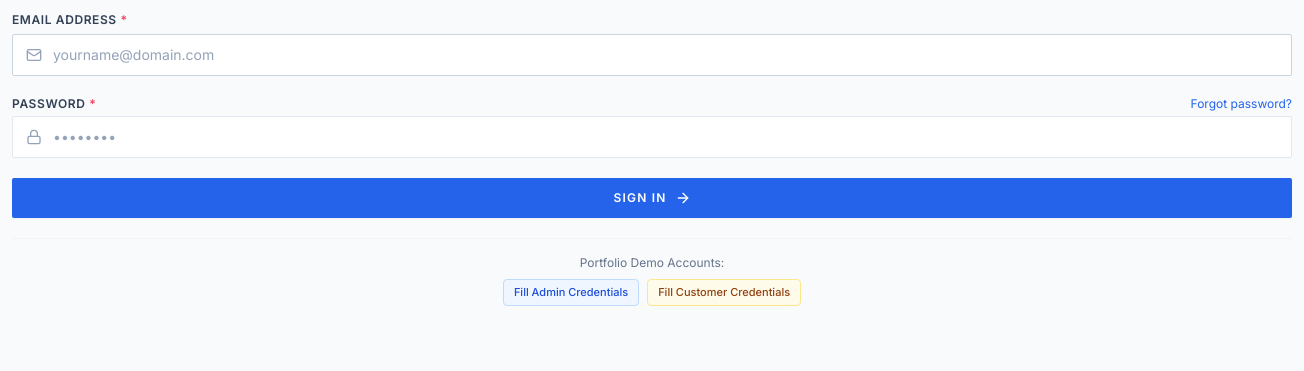
Test: LoginForm Validation › validates malformed email addresses
The image size is (1304, 371).
In the field with placeholder "yourname@domain.com": (652, 55) x1=12 y1=34 x2=1292 y2=76, type "invalid-email"
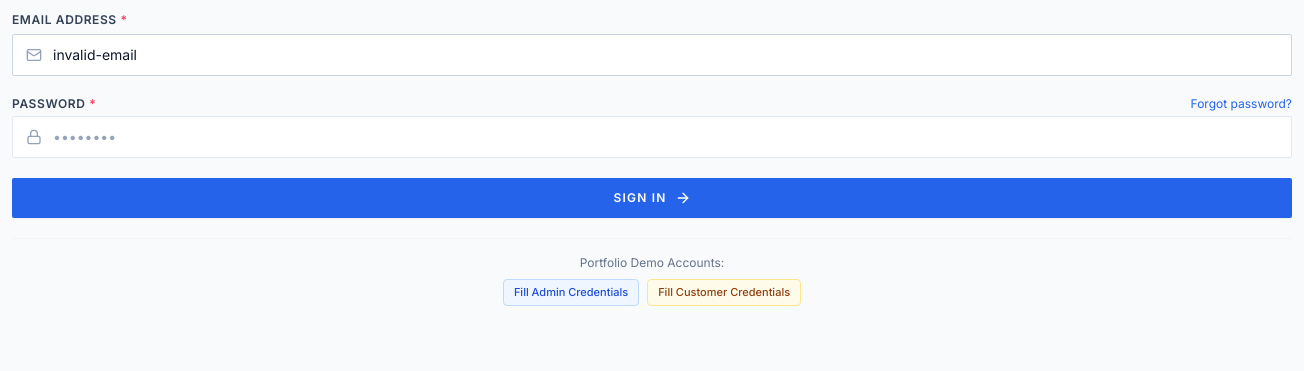
Click the button "Sign In": (652, 198) x1=12 y1=178 x2=1292 y2=218
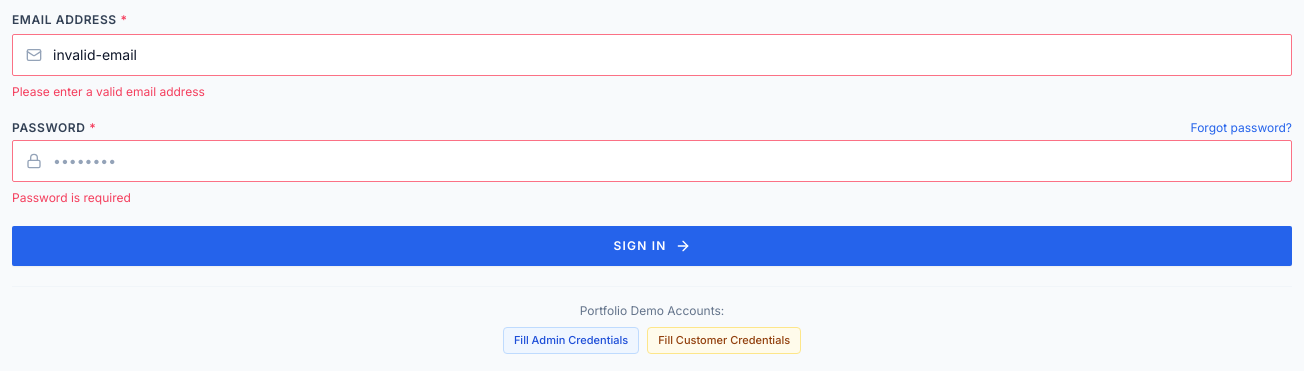
Now the text "Please enter a valid email address" is shown, box x1=12 y1=84 x2=205 y2=99
